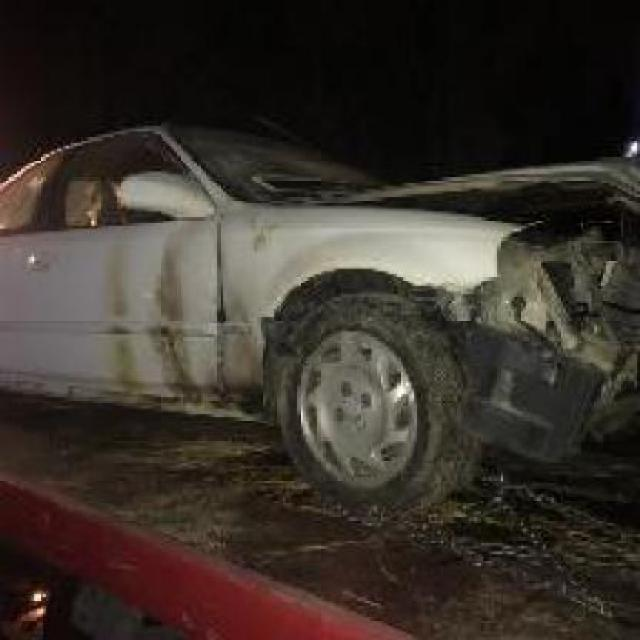damaged-front-bumper: (440, 294, 637, 449)
damaged-hood: (332, 157, 640, 216)
